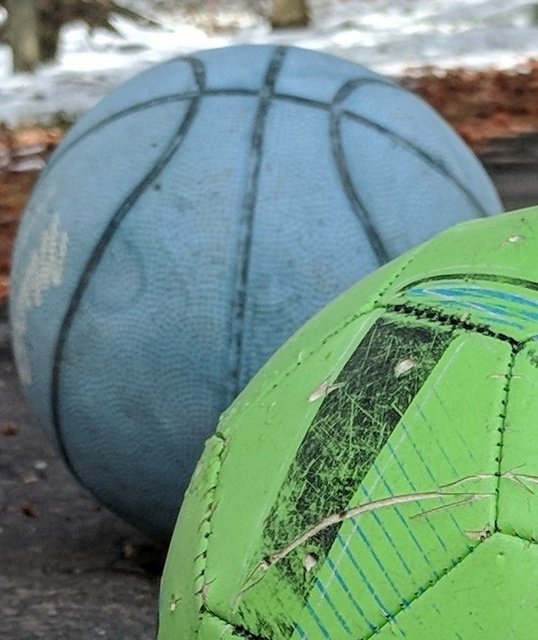ball: (8, 39, 507, 541)
